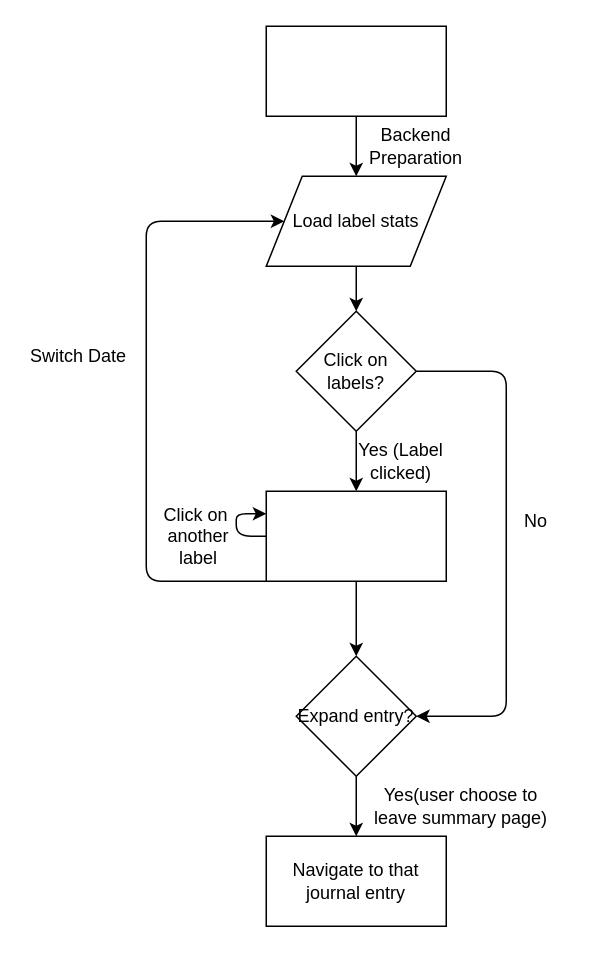
The diagram is 591 pixels wide and 953 high, and some of its shapes have lost their labels. Here are the shapes that lost their labels. From the top down, the centre of each, then its label:
the point at 355,70: Summary Page
the point at 355,535: Expand label Info
